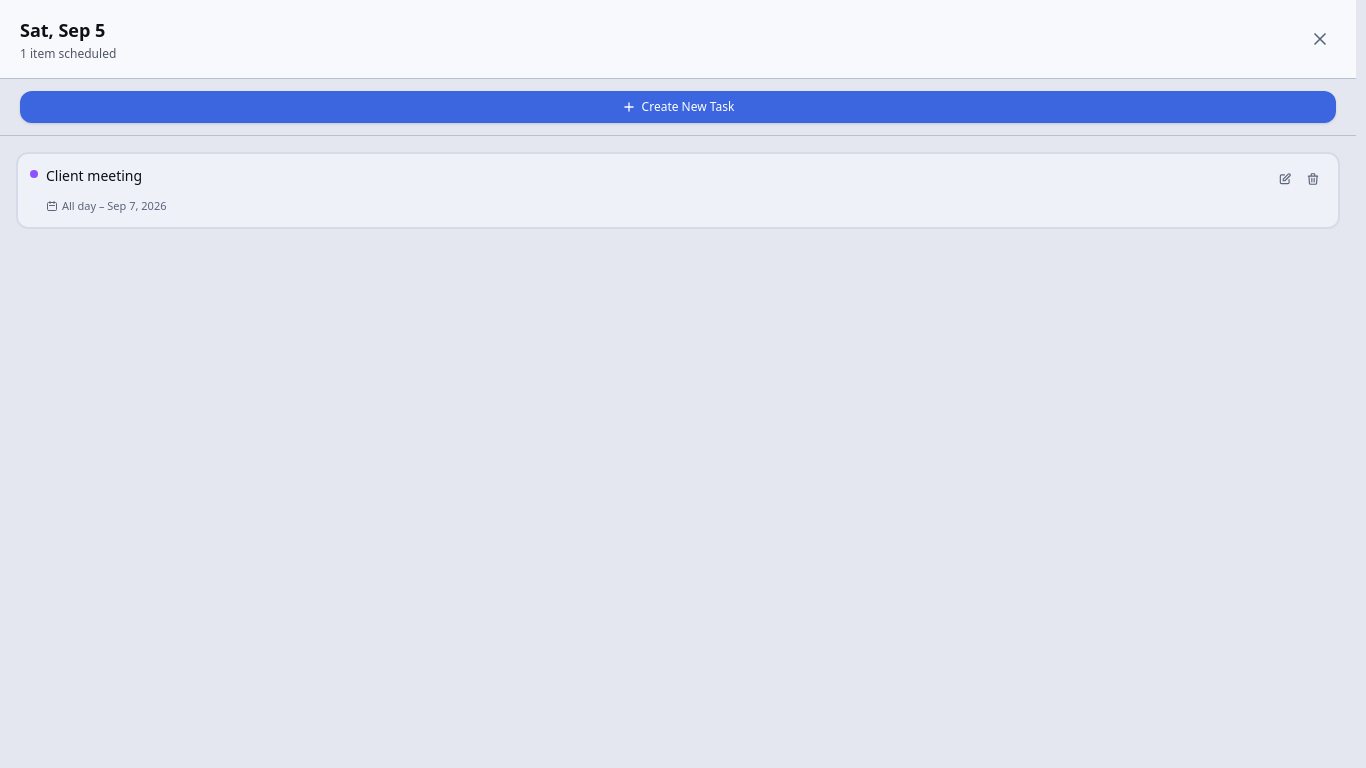
it: event popup: when › shows the last day of a multi-day all-day event, not its exclusive end
The width and height of the screenshot is (1366, 768).
Click the heading "Client meeting".
click(94, 176)  # box [46,166,142,186]
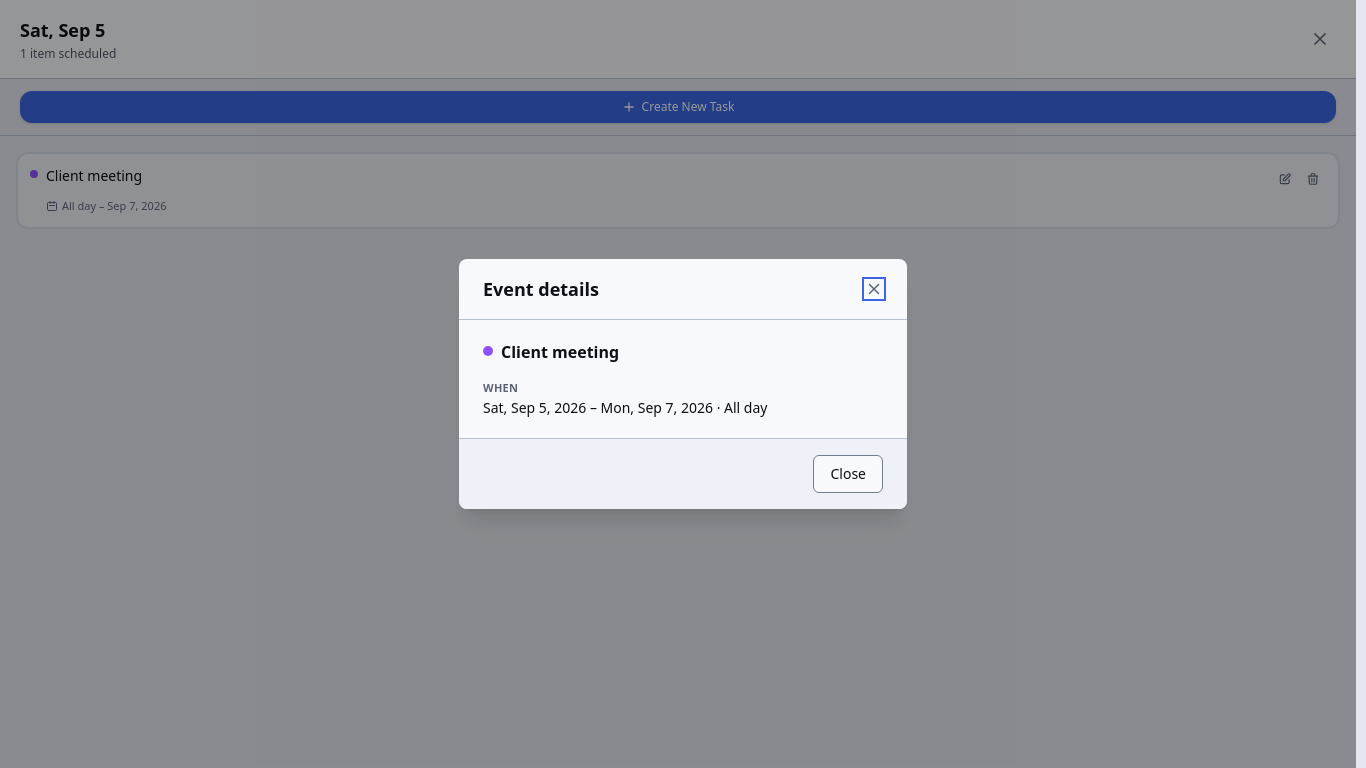
Result: the text "Sat, Sep 5, 2026 – Mon, Sep 7, 2026 · All day" is shown at [483,398,768,417]
